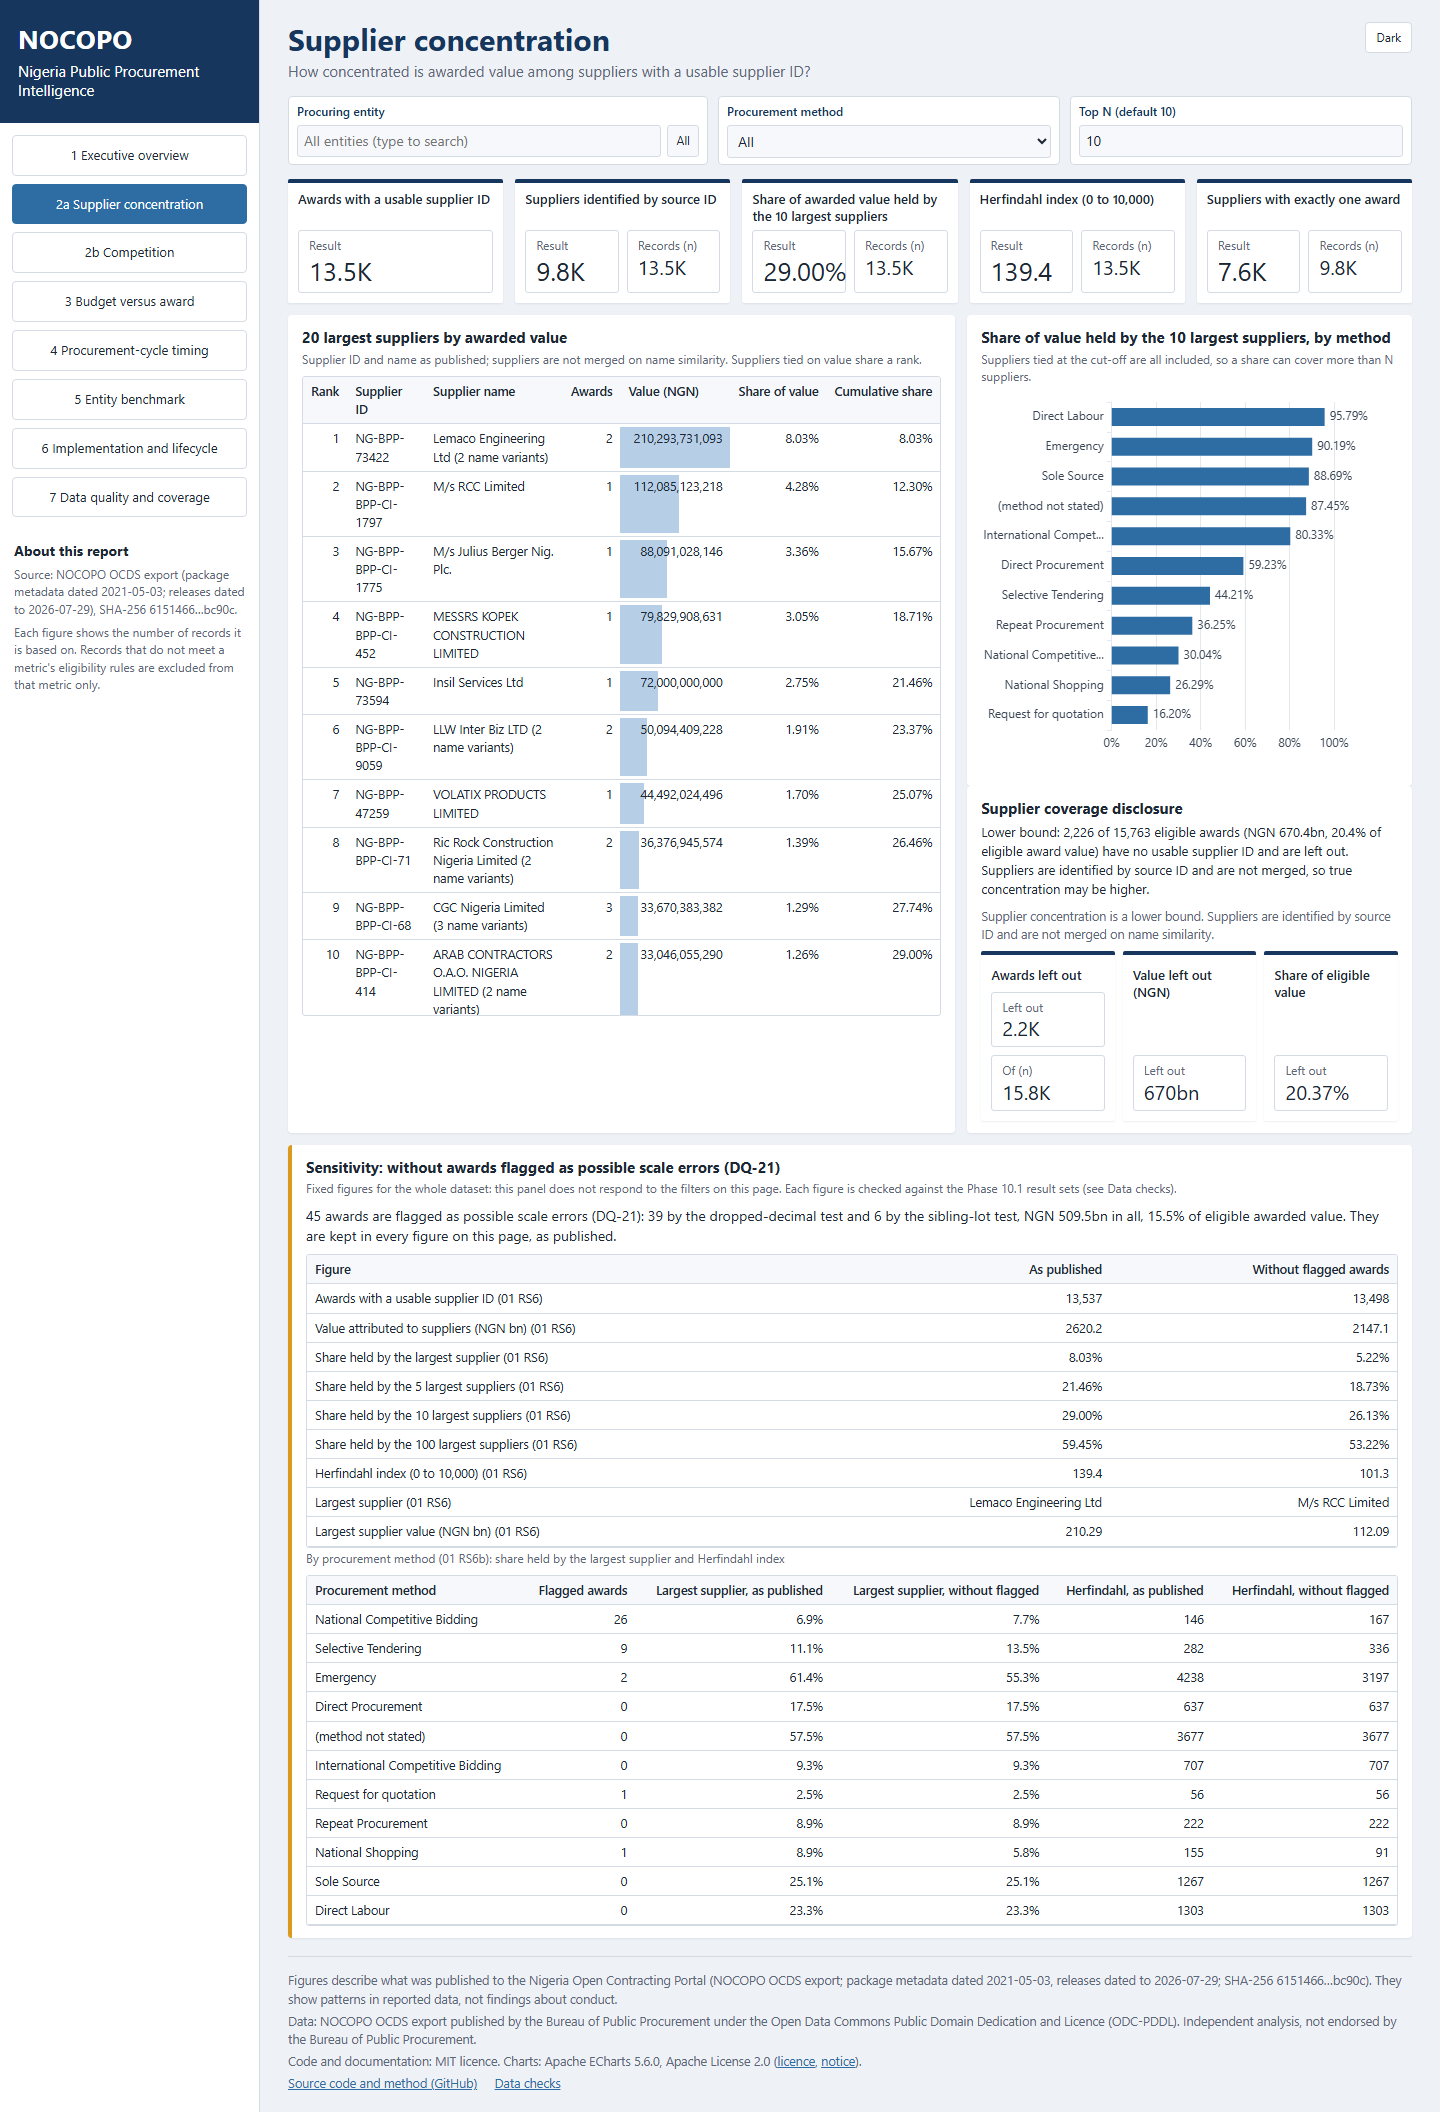

Layout of this report page (visuals, bound fields, positions):
{"tool":"powerbi","page":{"name":"2a Supplier concentration","canvas":[1920,1080],"ordinal":1},"visuals":[{"type":"textbox","box":[0,0,280,190],"z":0},{"type":"textbox","box":[0,190,280,890],"z":1},{"type":"textbox","box":[20,18,250,150],"z":2},{"type":"pageNavigator","box":[12,205,256,480],"z":3},{"type":"textbox","box":[12,700,256,360],"z":4},{"type":"textbox","box":[310,15,1580,80],"z":5},{"type":"textbox","box":[310,995,1580,70],"z":6},{"type":"slicer","title":"Procuring entity","fields":{"Values":["DimBuyer.buyer_label"]},"box":[310,105,520,80],"z":7},{"type":"slicer","title":"Procurement method","fields":{"Values":["DimMethod.procurement_method"]},"box":[850,105,420,80],"z":8},{"type":"slicer","title":"Top N (default 10)","fields":{"Values":["Top N.Value"]},"box":[1290,105,220,80],"z":9},{"type":"textbox","box":[310,200,304,6],"z":10},{"type":"cardVisual","title":"Awards with a usable supplier ID","fields":{"Data":["_Measures.M-S01 Eligible Awards"]},"box":[310,206,304,134],"z":11},{"type":"textbox","box":[629,200,304,6],"z":12},{"type":"cardVisual","title":"Suppliers identified by source ID","fields":{"Data":["_Measures.Suppliers (n)","_Measures.M-S01 Eligible Awards"]},"box":[629,206,304,134],"z":13},{"type":"textbox","box":[948,200,304,6],"z":14},{"type":"cardVisual","title":"Share of awarded value held by the N largest suppliers","fields":{"Data":["_Measures.Top N Supplier Share","_Measures.M-S01 Eligible Awards"]},"box":[948,206,304,134],"z":15},{"type":"textbox","box":[1267,200,304,6],"z":16},{"type":"cardVisual","title":"Herfindahl index (0 to 10,000)","fields":{"Data":["_Measures.Supplier HHI","_Measures.M-S01 Eligible Awards"]},"box":[1267,206,304,134],"z":17},{"type":"textbox","box":[1586,200,304,6],"z":18},{"type":"cardVisual","title":"Suppliers with exactly one award","fields":{"Data":["_Measures.Suppliers With One Award","_Measures.Suppliers (n)"]},"box":[1586,206,304,134],"z":19},{"type":"tableEx","title":"20 largest suppliers by awarded value","fields":{"Values":["_Measures.Supplier Rank","Suppliers.supplier_id","Suppliers.supplier_name","_Measures.M-S01 Eligible Awards","_Measures.Supplier Value (NGN)","_Measures.Supplier Share","_Measures.Cumulative Supplier Share"]},"box":[310,355,1060,625],"z":20},{"type":"clusteredBarChart","title":"Share of value held by the N largest suppliers, by method","fields":{"Category":["DimMethod.procurement_method"],"Y":["_Measures.Top N Supplier Share"]},"box":[1390,355,500,370],"z":21},{"type":"textbox","box":[1390,735,500,100],"z":22},{"type":"cardVisual","title":"Awards left out","fields":{"Data":["_Measures.M-S01 Excluded Awards","_Measures.Eligible Awards (n)"]},"box":[1390,845,158.7,135],"z":23},{"type":"cardVisual","title":"Value left out (NGN)","fields":{"Data":["_Measures.M-S01 Excluded Value (NGN)"]},"box":[1560.7,845,158.7,135],"z":24},{"type":"cardVisual","title":"Share of eligible value","fields":{"Data":["_Measures.M-S01 Excluded Value Share"]},"box":[1731.3,845,158.7,135],"z":25}]}

Visuals, with their boxes on the page's 1920x1080 design canvas (x1, y1, x2, y2). These are canvas units, not pixel positions in the 1440x2112 screenshot, which may show the page scaled, cropped or inside an application window:
textbox: l=0, t=0, r=280, b=190
textbox: l=0, t=190, r=280, b=1080
textbox: l=20, t=18, r=270, b=168
pageNavigator: l=12, t=205, r=268, b=685
textbox: l=12, t=700, r=268, b=1060
textbox: l=310, t=15, r=1890, b=95
textbox: l=310, t=995, r=1890, b=1065
"Procuring entity" slicer: l=310, t=105, r=830, b=185
"Procurement method" slicer: l=850, t=105, r=1270, b=185
"Top N (default 10)" slicer: l=1290, t=105, r=1510, b=185
textbox: l=310, t=200, r=614, b=206
"Awards with a usable supplier ID" cardVisual: l=310, t=206, r=614, b=340
textbox: l=629, t=200, r=933, b=206
"Suppliers identified by source ID" cardVisual: l=629, t=206, r=933, b=340
textbox: l=948, t=200, r=1252, b=206
"Share of awarded value held by the N largest suppliers" cardVisual: l=948, t=206, r=1252, b=340
textbox: l=1267, t=200, r=1571, b=206
"Herfindahl index (0 to 10,000)" cardVisual: l=1267, t=206, r=1571, b=340
textbox: l=1586, t=200, r=1890, b=206
"Suppliers with exactly one award" cardVisual: l=1586, t=206, r=1890, b=340
"20 largest suppliers by awarded value" tableEx: l=310, t=355, r=1370, b=980
"Share of value held by the N largest suppliers, by method" clusteredBarChart: l=1390, t=355, r=1890, b=725
textbox: l=1390, t=735, r=1890, b=835
"Awards left out" cardVisual: l=1390, t=845, r=1549, b=980
"Value left out (NGN)" cardVisual: l=1561, t=845, r=1719, b=980
"Share of eligible value" cardVisual: l=1731, t=845, r=1890, b=980
